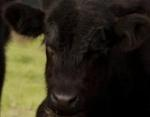muzzles: (47, 88, 79, 110)
